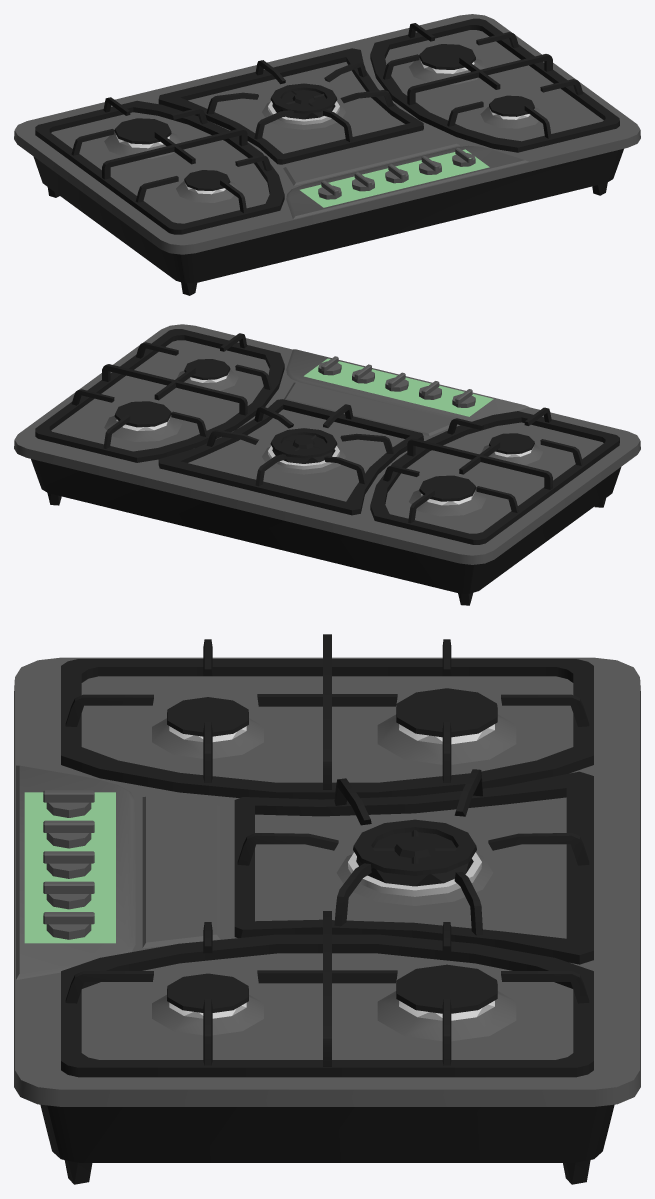
File: MHJZMS403.FBX
The picture shows the model from 3 angles, top to bottom: view 1: azimuth 30°, elevation 25°; view 2: azimuth 150°, elevation 25°; view 3: azimuth 270°, elevation 25°; orthographic projection. The views are drawn at different scales.
Parts seen in each view (by area): view 1: MHJZMS403; view 2: MHJZMS403; view 3: MHJZMS403.
Boxes of the visible parts, x1,y1,x2,y2 form: MHJZMS403: (14, 14, 640, 295); MHJZMS403: (14, 324, 640, 605); MHJZMS403: (14, 634, 640, 1184).
Bounding box in the file's own units: 91.5 × 56 × 15.78.
